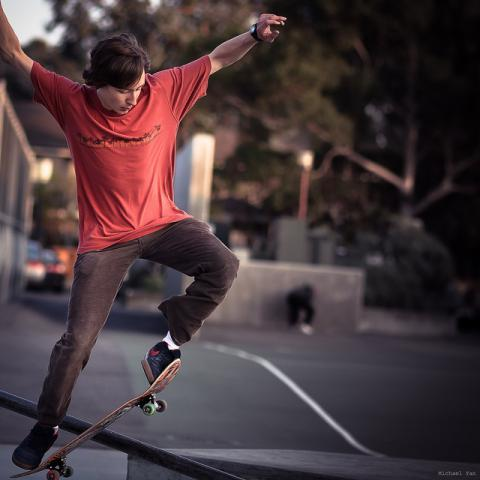car: (25, 241, 72, 293)
